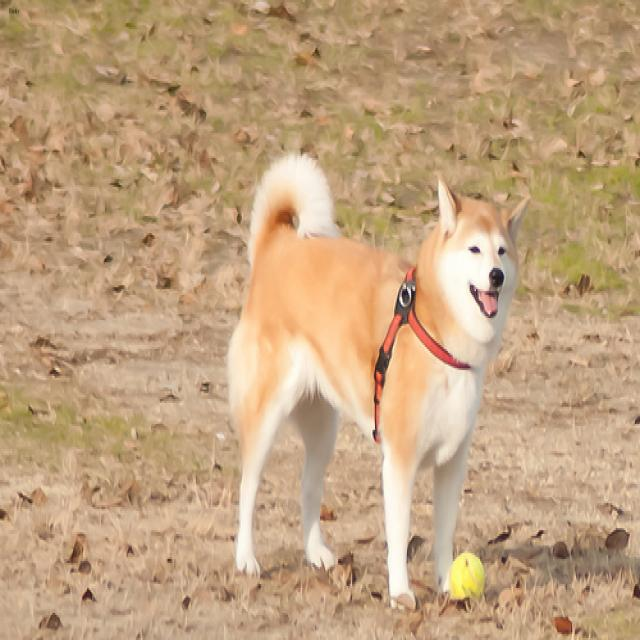dog-shiba_inu: (220, 147, 539, 619)
